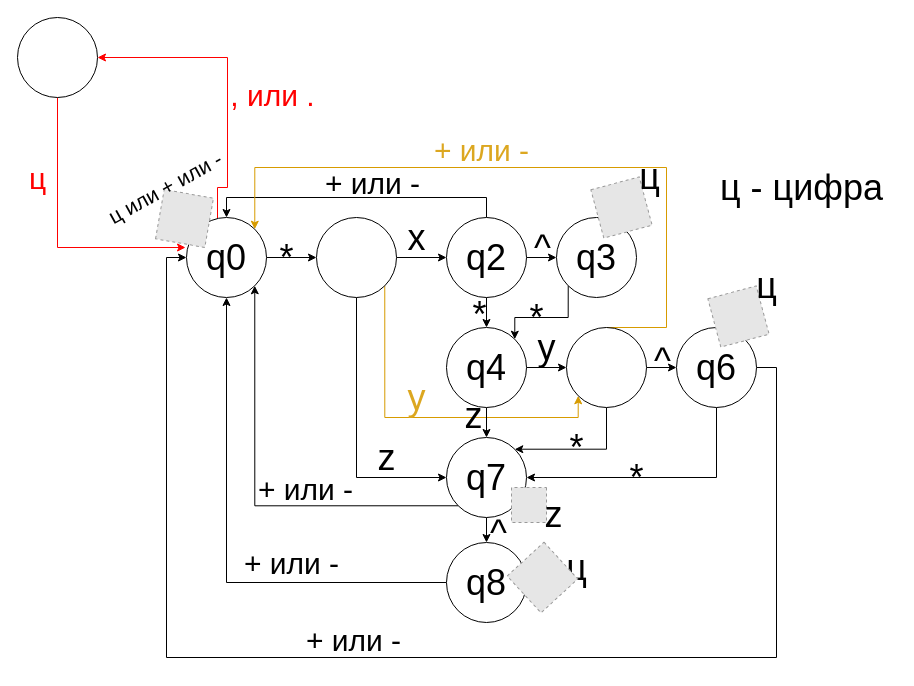
The diagram is 914 pixels wide and 686 high, and some of its shapes have lost their labels. Grey dashed boxes stand in for pictures. Here are the shapes that lost their labels. From the top down, the centre of each, then its label:
At (x=57, y=57): "q9".
At (x=356, y=257): "q1".
At (x=606, y=367): "q5".
